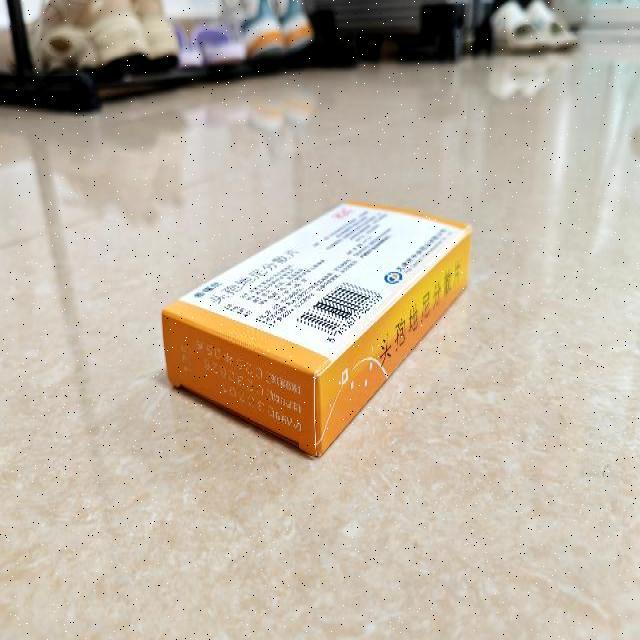box: (162, 200, 474, 456)
